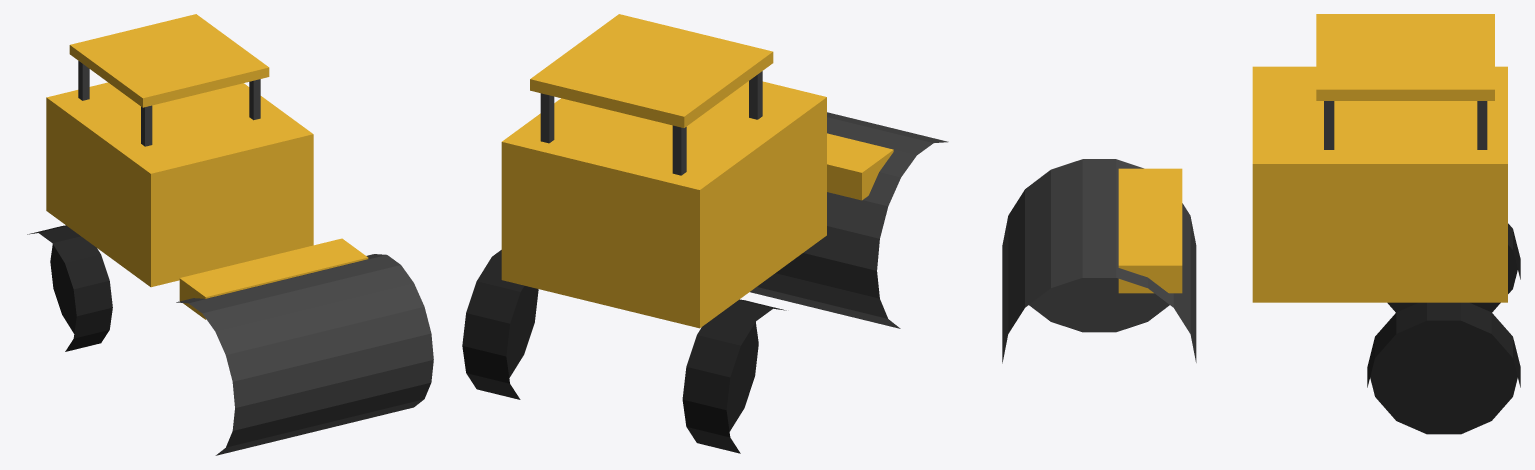
The model's file is valt.glb.
3 views of the same model, side by side, from view 1: azimuth 30°, elevation 25°; view 2: azimuth 150°, elevation 25°; view 3: azimuth 270°, elevation 25° (orthographic). The views are drawn at different scales.
Visible parts, largest first — view 1: valt; view 2: valt; view 3: valt.
Part boxes in pixels (bbox=[...]): valt: bbox=[27, 14, 433, 455]; valt: bbox=[462, 14, 948, 453]; valt: bbox=[1002, 14, 1520, 434].
Size of the model in its own units: 1.2 by 1.47 by 2.03.
